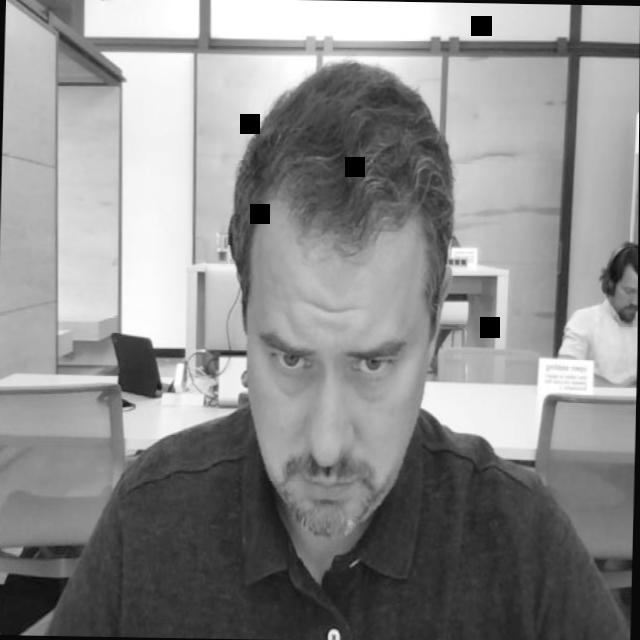NO-Mask: (222, 61, 459, 546), (599, 243, 639, 326)
